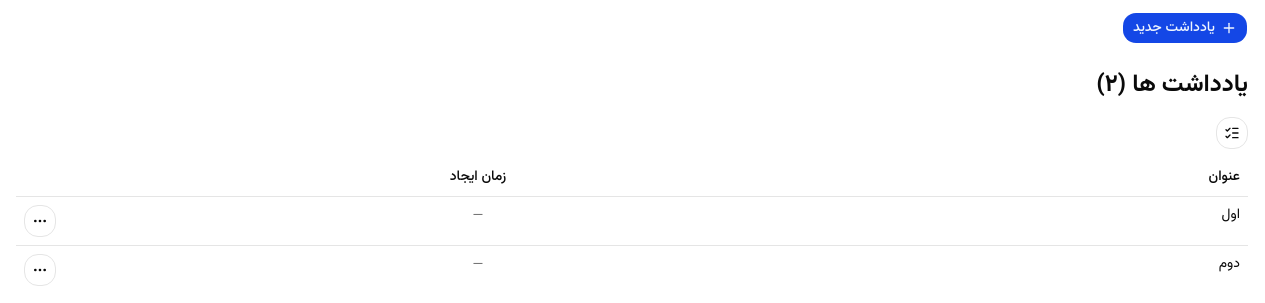
Test case: NotesPage deleting selected notes › counts the selected notes on the delete button
This screenshot has width=1265, height=303.
Step 1. Click the button named "حالت انتخاب برای یادداشت ها" → (1232, 133), box left=1216, top=117, right=1248, bottom=149
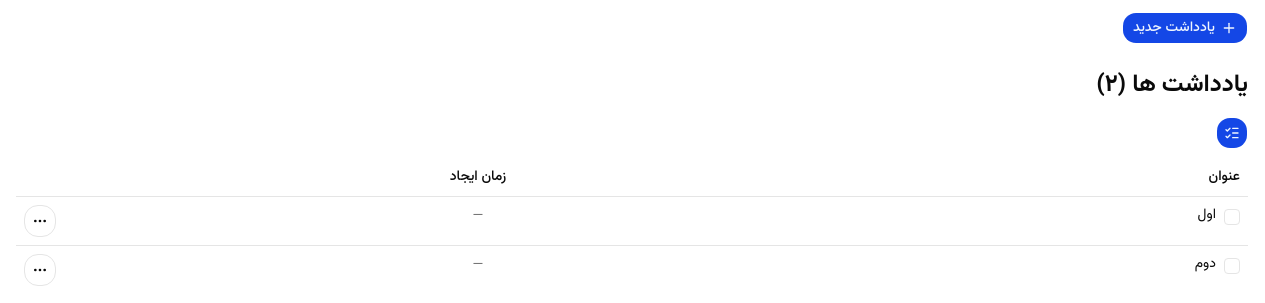
Step 2. Click the button "اول" → (1207, 215), box left=632, top=205, right=1216, bottom=225
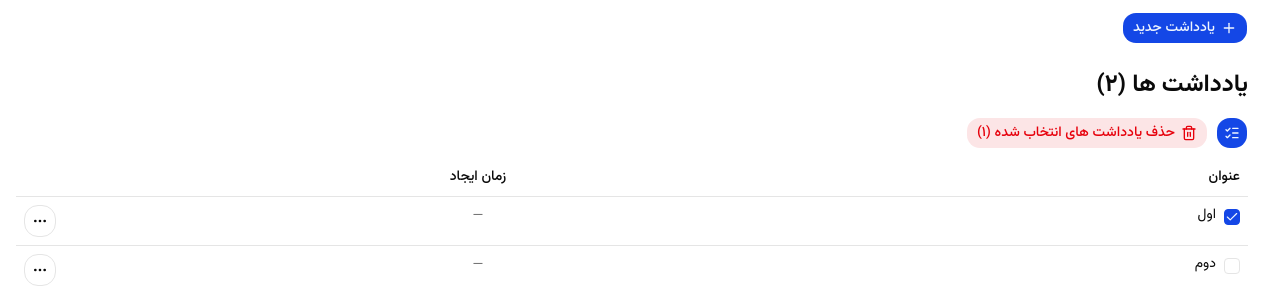
Expected: the button "حذف یادداشت های انتخاب شده (۱)" is shown, left=966, top=117, right=1208, bottom=149
